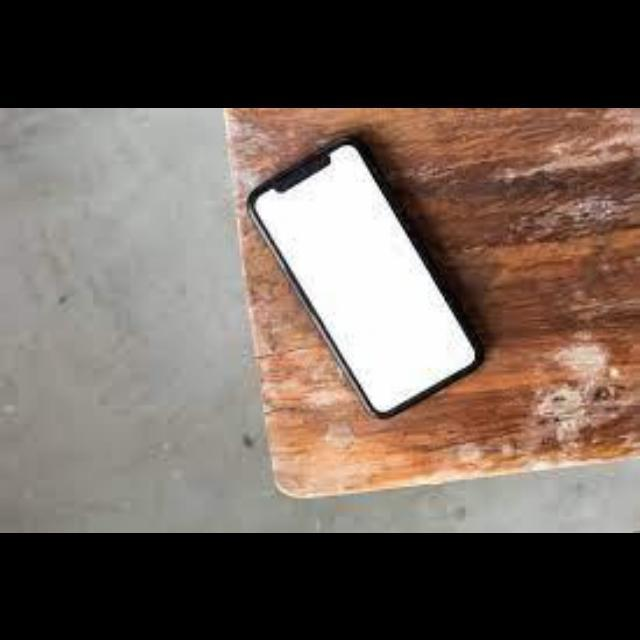phone: (253, 137, 485, 409)
